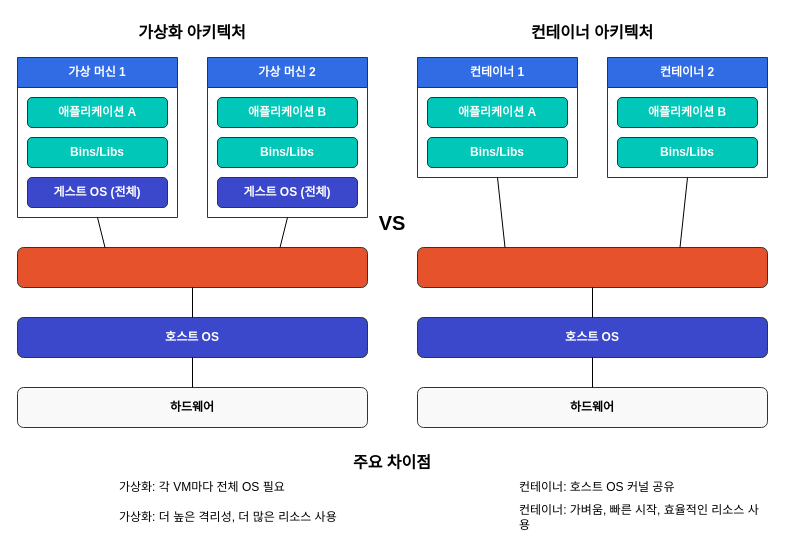
Image size: 785x549. Some labels were removed from this diagram. Here are the shapes that lost their labels. From the top down, the centre of each, then its label:
At (192,267): "하이퍼바이저".
At (592,267): "컨테이너 런타임".
